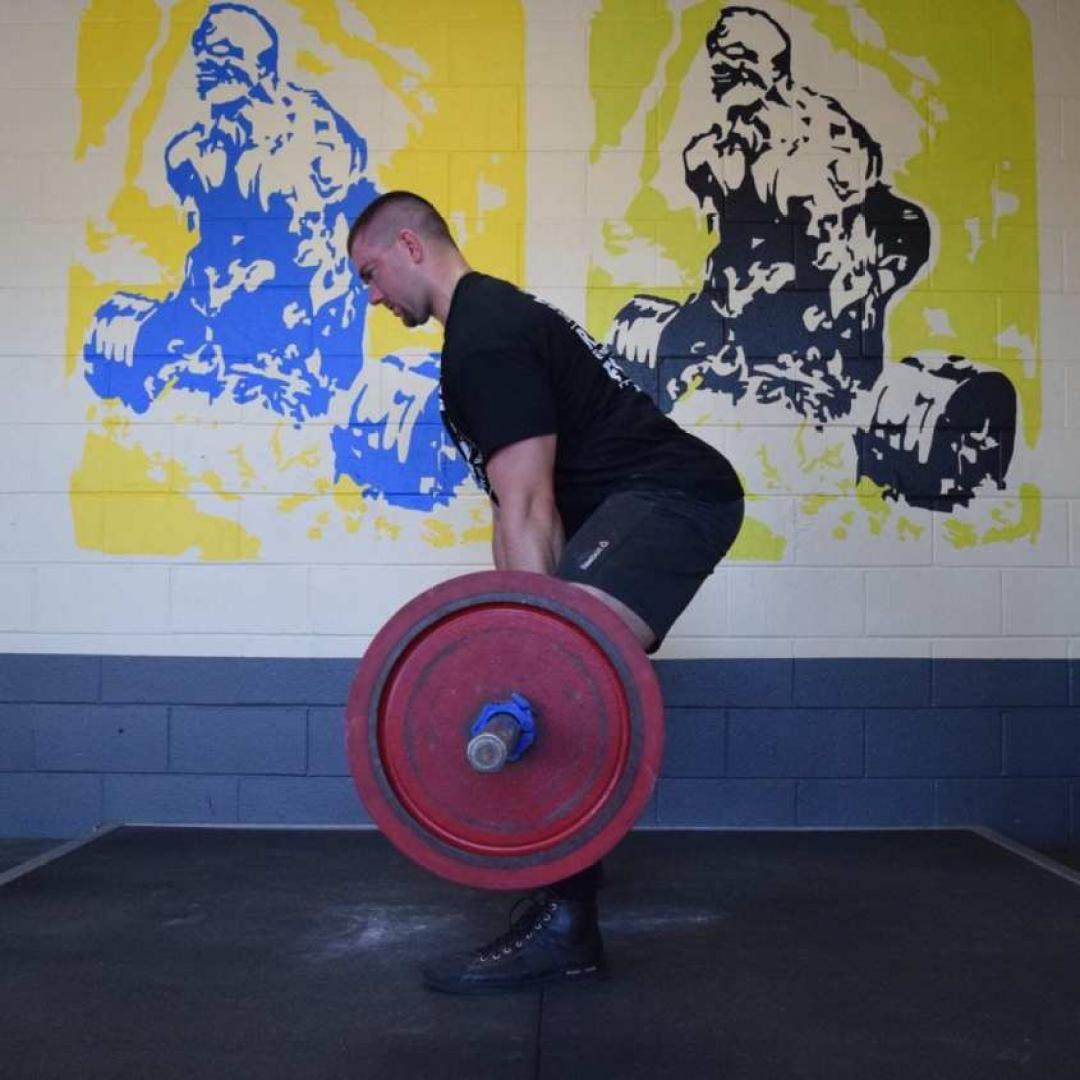Bar: (466, 732, 508, 774)
Barbell: (349, 570, 666, 884)
